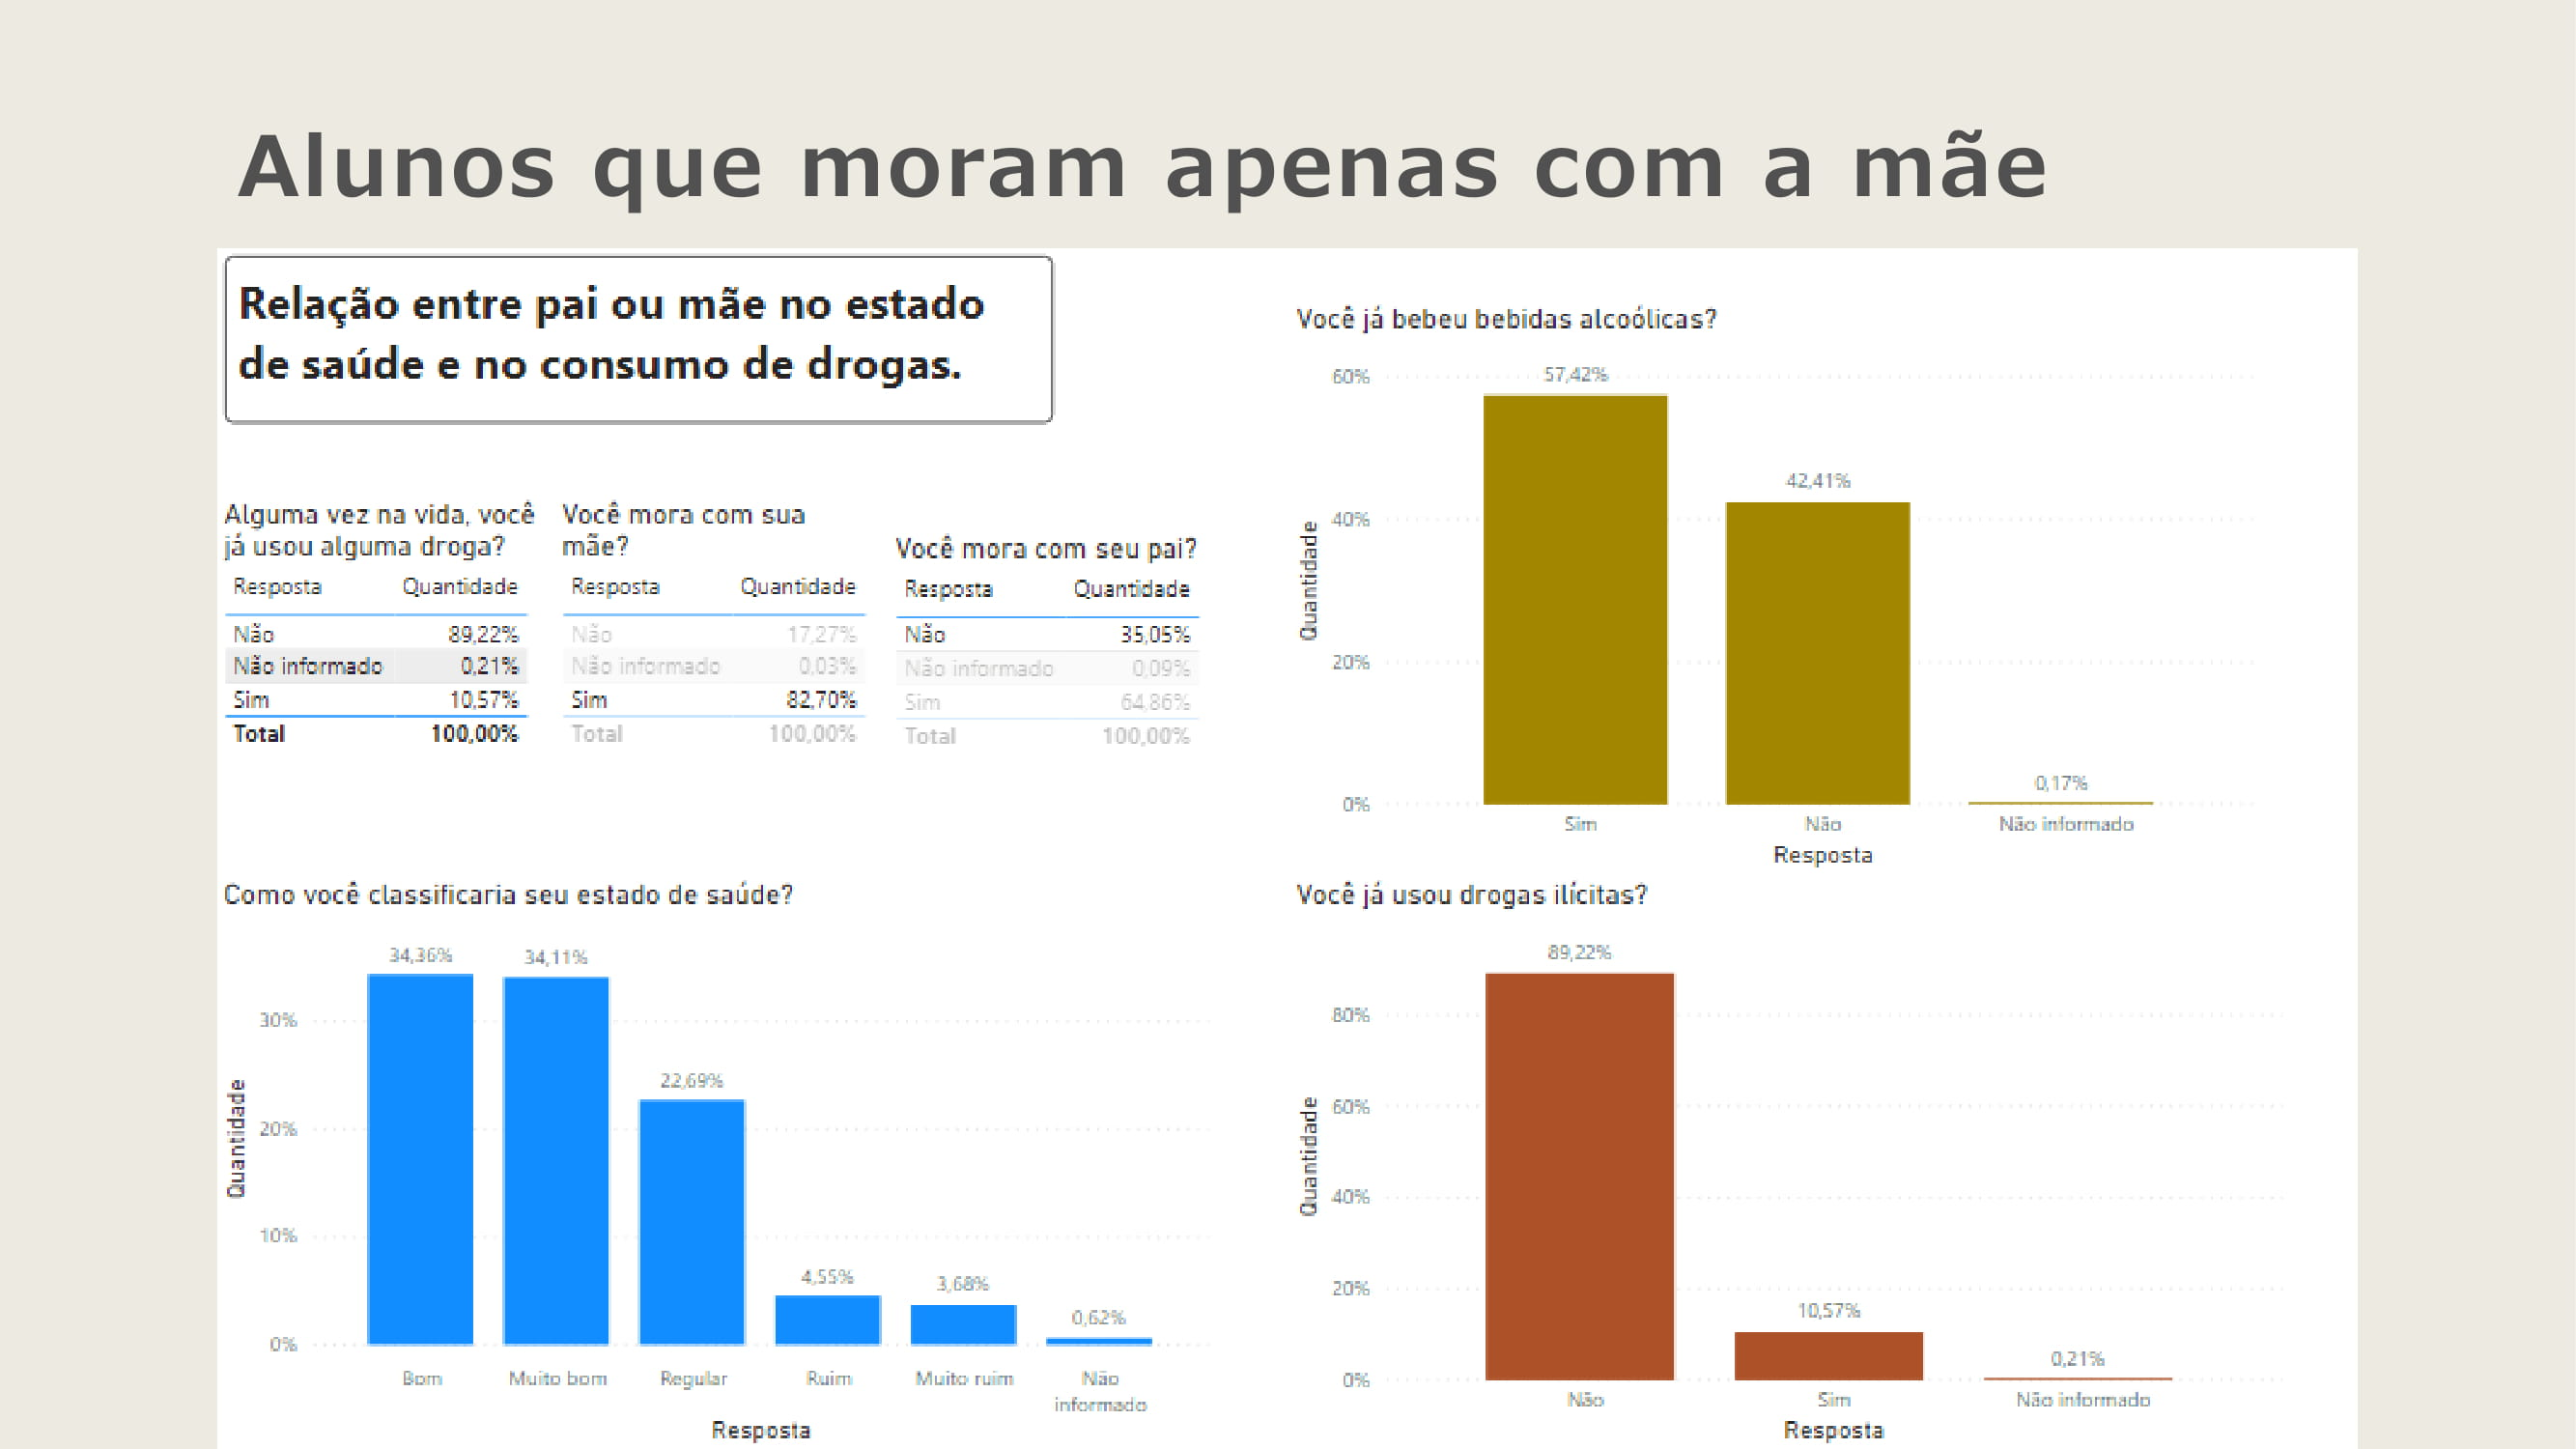

The dashboard page shown, as its layout file describes it:
{"tool":"powerbi","page":{"name":"Drogas saúde pais","canvas":[1280,720],"ordinal":1},"visuals":[{"type":"tableEx","title":"Alguma vez na vida, você já usou alguma droga?","fields":{"Values":["P_Já usou drogas ilícitas?.Resposta","Sum(Respotas_Questionario.cont)"]},"box":[0,149.6,202,171.7],"z":0},{"type":"clusteredColumnChart","title":"Você já bebeu bebidas alcoólicas?","fields":{"Y":["Sum(Respotas_Questionario.cont)"],"Category":["P_Já usou álcool?.Resposta"]},"box":[640.6,33.2,585.8,343.4],"z":1000},{"type":"tableEx","title":"Você mora com seu pai?","fields":{"Values":["P_Você mora com seu pai?.Resposta","Sum(Respotas_Questionario.cont)"]},"box":[401.5,170.6,197.7,146.4],"z":2000},{"type":"tableEx","title":"Você mora com sua mãe?","fields":{"Values":["P_Você mora com sua mãe?.Resposta","Sum(Respotas_Questionario.cont)"]},"box":[202,149.6,199.1,171.7],"z":3000},{"type":"textbox","box":[5.8,5.8,494.9,99.6],"z":4000},{"type":"clusteredColumnChart","title":"Como você classificaria seu estado de saúde?","fields":{"Category":["P_Como você classificaria seu estado de saúde?.Resposta"],"Y":["Sum(Respotas_Questionario.cont)"]},"box":[0,376.6,599.2,343.2],"z":5000},{"type":"clusteredColumnChart","title":"Você já usou drogas ilícitas?","fields":{"Category":["P_Já usou drogas ilícitas?.Resposta"],"Y":["Sum(Respotas_Questionario.cont)"]},"box":[640.6,376.6,598.8,343.4],"z":6000}]}

Visuals, with their boxes in screenshot pixels (x1, y1, x2, y2), scaled from the page's 1280x720 canvas onto the 2576x1449 screenshot:
"Alguma vez na vida, você já usou alguma droga?" tableEx: (0,301,407,646)
"Você já bebeu bebidas alcoólicas?" clusteredColumnChart: (1289,67,2468,758)
"Você mora com seu pai?" tableEx: (808,343,1205,638)
"Você mora com sua mãe?" tableEx: (407,301,807,646)
textbox: (12,12,1007,213)
"Como você classificaria seu estado de saúde?" clusteredColumnChart: (0,758,1205,1448)
"Você já usou drogas ilícitas?" clusteredColumnChart: (1289,758,2494,1448)
